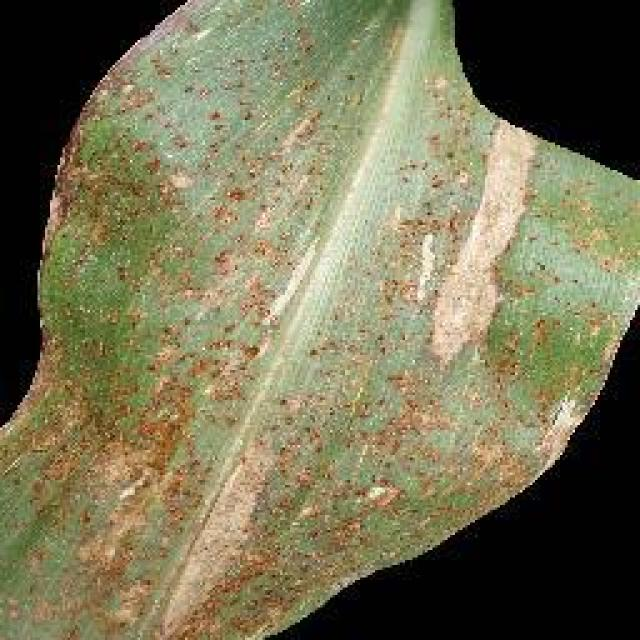Corn Common Rust: (132, 97, 523, 555)
